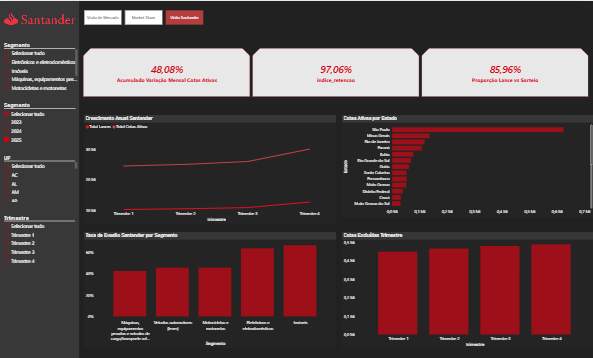

This screenshot's page, from the dashboard's own definition file:
{"tool":"powerbi","page":{"name":"Visão Santander","canvas":[1980,1200],"ordinal":2},"visuals":[{"type":"shape","box":[0,0,263.7,1480.8],"z":0},{"type":"image","box":[0,0,264,116],"z":2000},{"type":"lineChart","title":"Crescimento Anual Santander","fields":{"Category":["d_calendario.trimestre"],"Y":["#Medidas.total_lances","#Medidas.total_cotas_ativas"]},"box":[278.2,380.2,840,362],"z":3000},{"type":"clusteredBarChart","title":"Cotas Ativas por Estado","fields":{"Category":["d_geografia.nome_estado"],"Y":["#Medidas.total_cotas_ativas"]},"box":[1138.7,381.3,840.4,342.4],"z":3000},{"type":"cardVisual","fields":{"Data":["#Medidas.variacao_mom_cotas_ativas","#Medidas.indice_retencao","#Medidas.proporcao_lance_vs_sorteio_santander"]},"box":[262,138,1718,196],"z":4000},{"type":"clusteredColumnChart","title":"Taxa de Evasão Santander por Segmento","fields":{"Category":["d_segmento.descricao_segmento"],"Y":["#Medidas.taxa_evasao_santander"]},"box":[278.3,767.8,840,385],"z":5000},{"type":"slicer","fields":{"Values":["d_segmento.descricao_segmento"]},"box":[0,127.6,263.9,170.9],"z":6000},{"type":"pageNavigator","box":[278,32,400,50],"z":7000},{"type":"slicer","fields":{"Values":["d_geografia.sigla_uf"]},"box":[0,507,262.5,169.9],"z":8000},{"type":"clusteredColumnChart","title":"Cotas Excluídas Trimestre","fields":{"Category":["d_calendario.trimestre"],"Y":["#Medidas.cotas_excluidas_santander"]},"box":[1138.7,767.8,840.4,386.5],"z":9000},{"type":"slicer","fields":{"Values":["d_calendario.trimestre"]},"box":[0,705.2,262.5,190.5],"z":10000},{"type":"slicer","fields":{"Values":["d_calendario.ano"]},"box":[0,327.5,265,170],"z":13000}]}

Visuals, with their boxes in screenshot pixels (x1, y1, x2, y2), scaled from the page's 1980x1200 canvas onto the 593x358 screenshot:
shape: bbox(0, 0, 79, 357)
image: bbox(0, 0, 79, 35)
"Crescimento Anual Santander" lineChart: bbox(83, 113, 335, 221)
"Cotas Ativas por Estado" clusteredBarChart: bbox(341, 114, 592, 216)
cardVisual - #Medidas.variacao_mom_cotas_ativas x #Medidas.indice_retencao: bbox(78, 41, 592, 100)
"Taxa de Evasão Santander por Segmento" clusteredColumnChart: bbox(83, 229, 335, 344)
slicer - d_segmento.descricao_segmento: bbox(0, 38, 79, 89)
pageNavigator: bbox(83, 10, 203, 24)
slicer - d_geografia.sigla_uf: bbox(0, 151, 79, 202)
"Cotas Excluídas Trimestre" clusteredColumnChart: bbox(341, 229, 592, 344)
slicer - d_calendario.trimestre: bbox(0, 210, 79, 267)
slicer - d_calendario.ano: bbox(0, 98, 79, 148)
